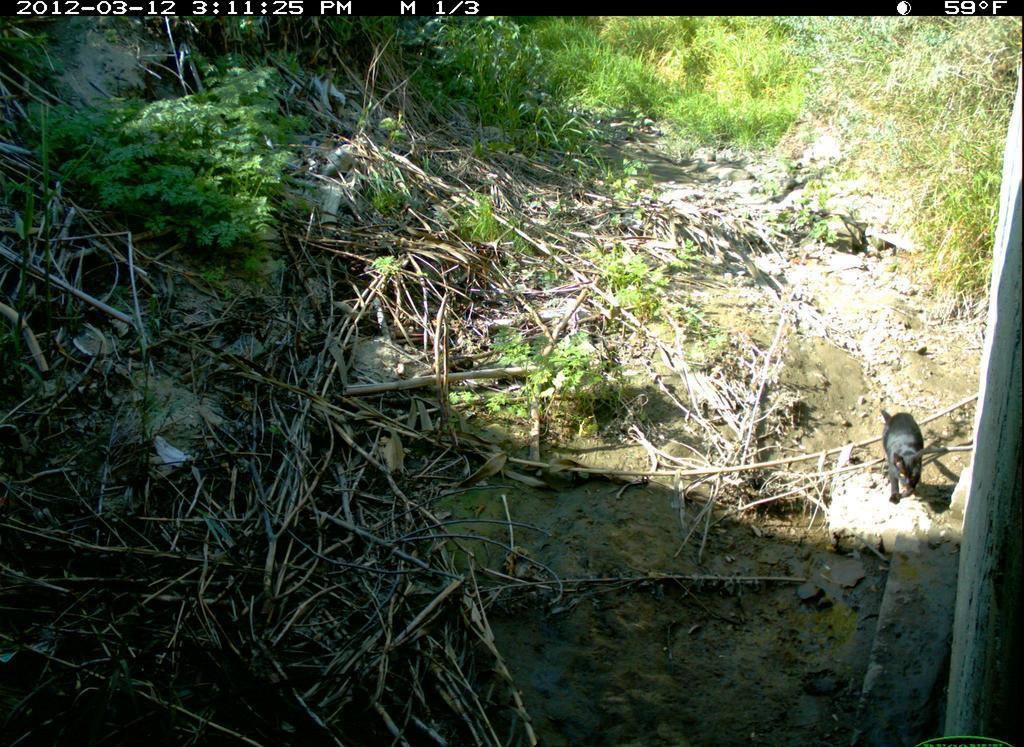cat: (879, 402, 936, 510)
